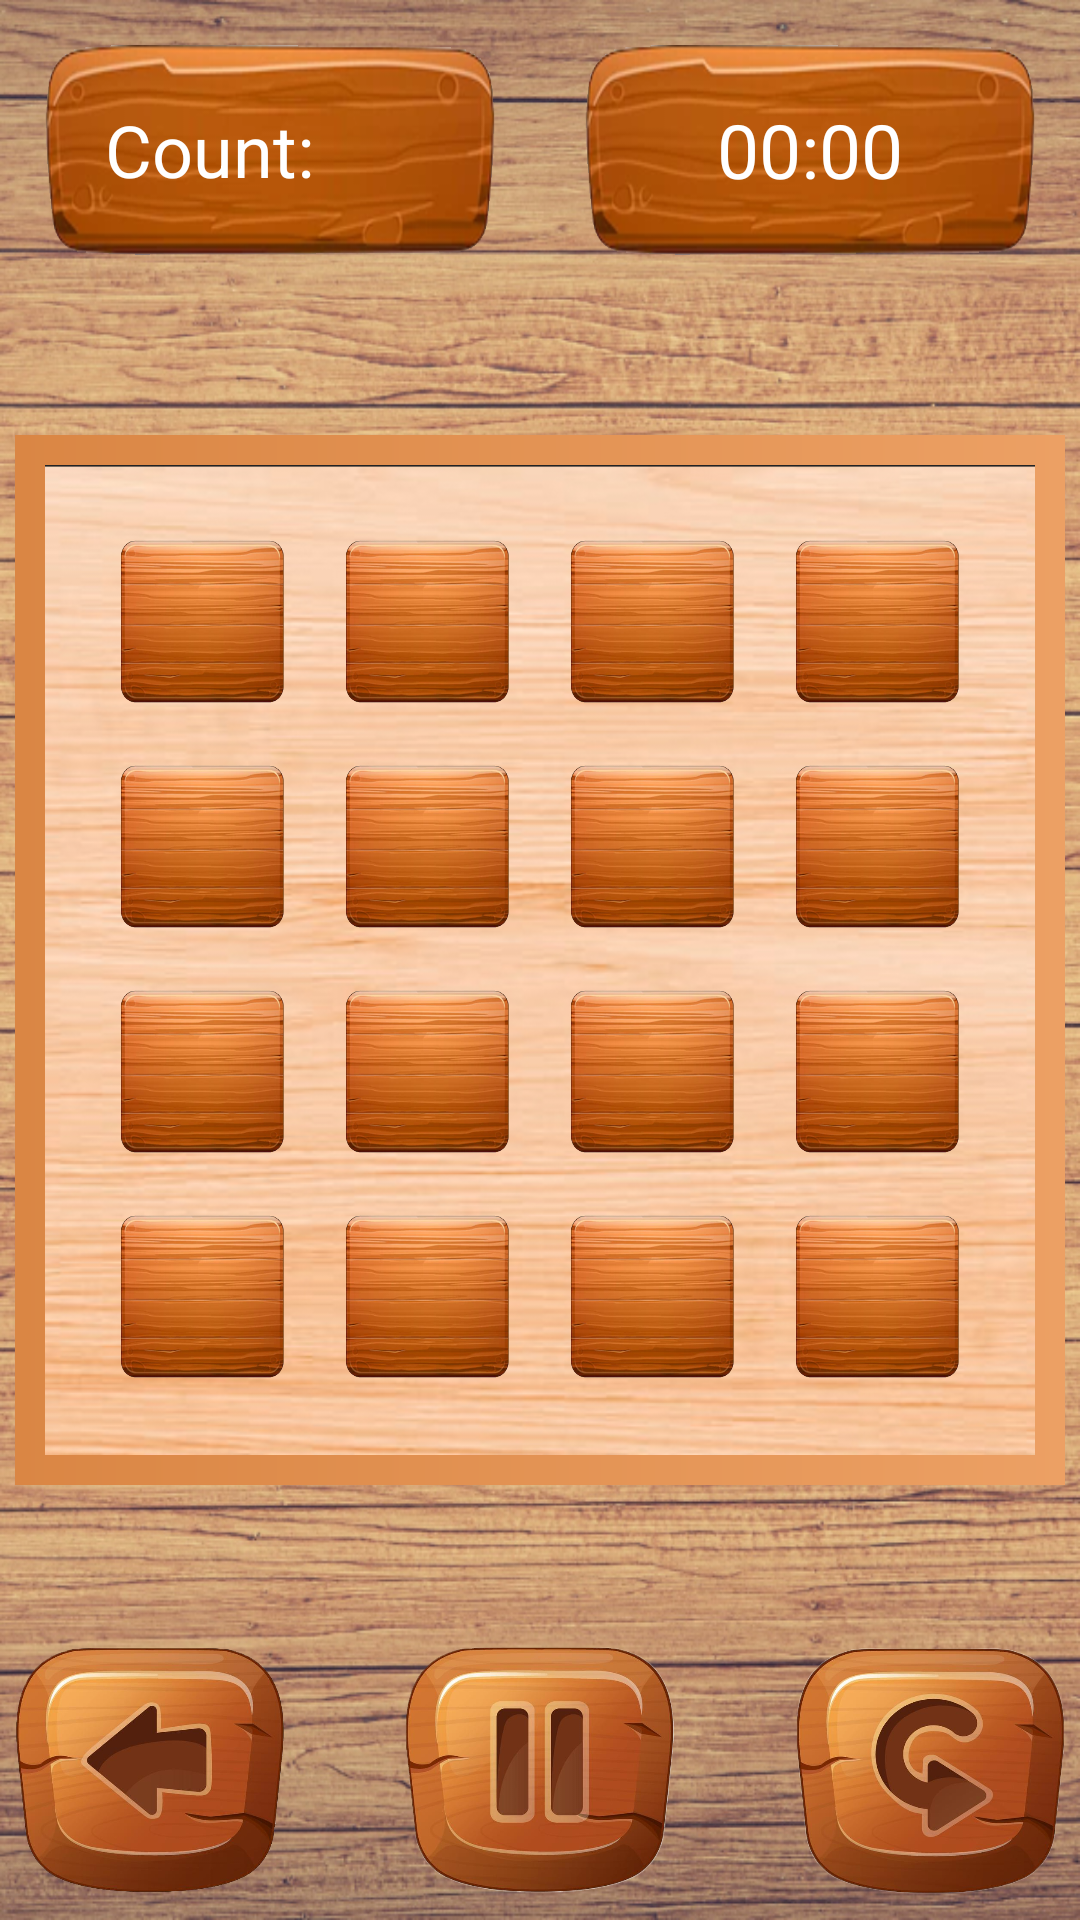

Named icons in this screenshot (1080w x 1920h) and their bounding boxes, (x1, y1, x2, y2):
back: (0, 1622, 300, 1920)
pause: (390, 1620, 690, 1920)
refresh: (780, 1620, 1080, 1920)
